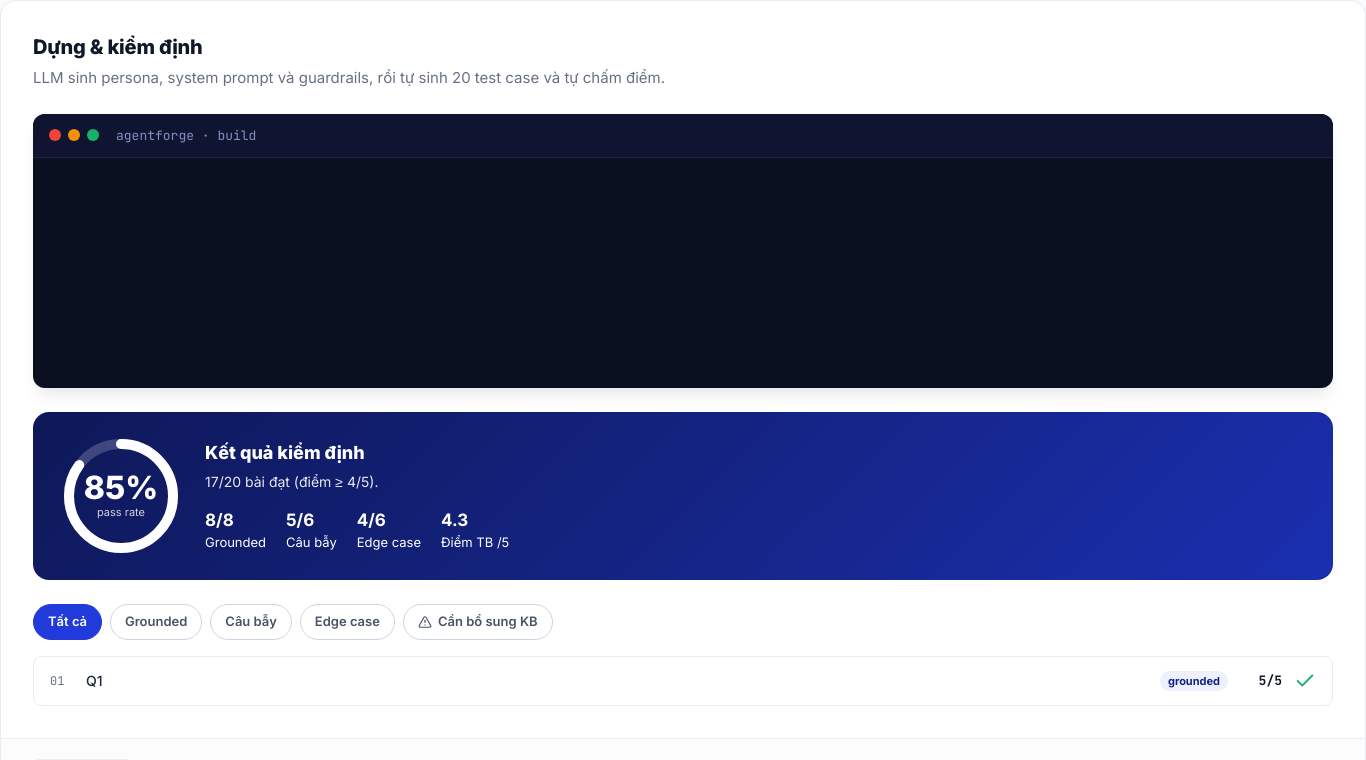
Step3BuildView › có runId thì mở được ô sửa câu trả lời
The width and height of the screenshot is (1366, 760).
Click the button "01 Q1 grounded 5/5".
click(1194, 681)  # box left=34, top=657, right=1332, bottom=705
(page scrolled)
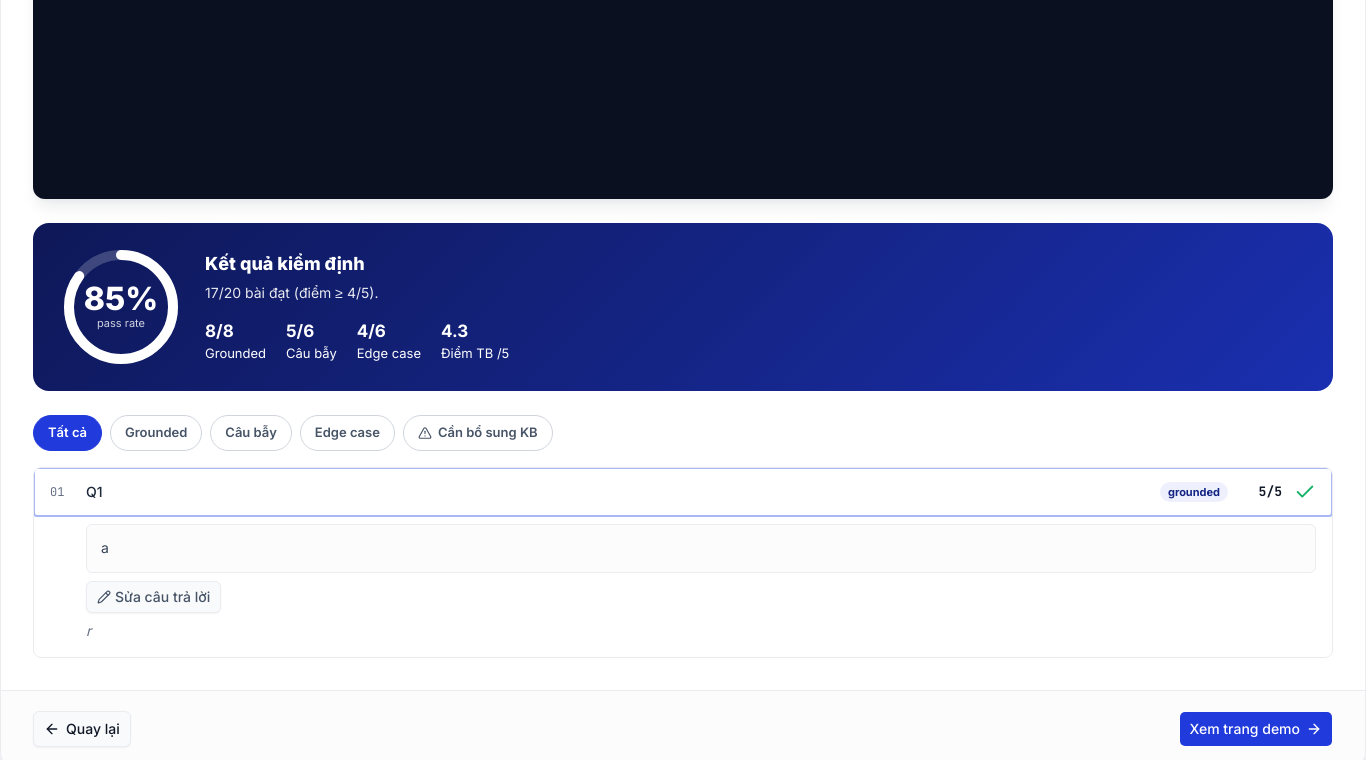
Expected: the button "Sửa câu trả lời" is shown, left=86, top=581, right=221, bottom=613
